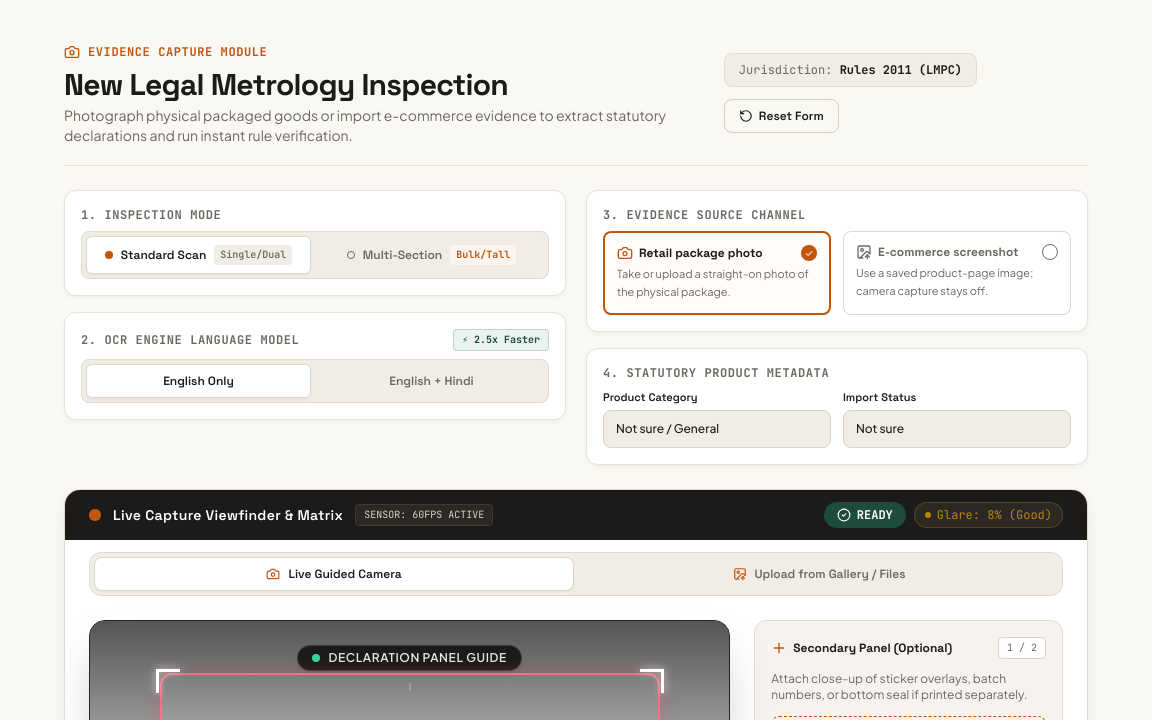
Test: inspection experience › changes capture guidance when screenshot mode is selected
Step 1. Click the radio button labelled "E-commerce screenshot" → click(957, 273), box 843,231 -> 1071,315
(page scrolled)
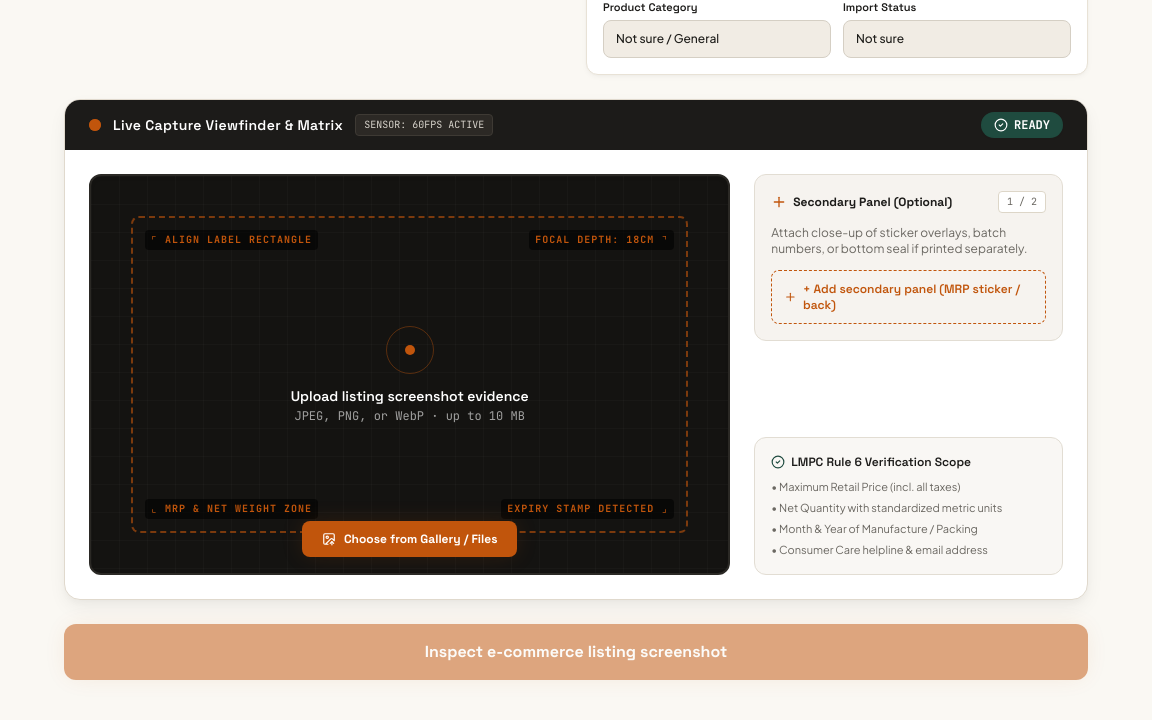
expect the text "Upload listing screenshot evidence" is shown: met, box 283,386 -> 537,406
